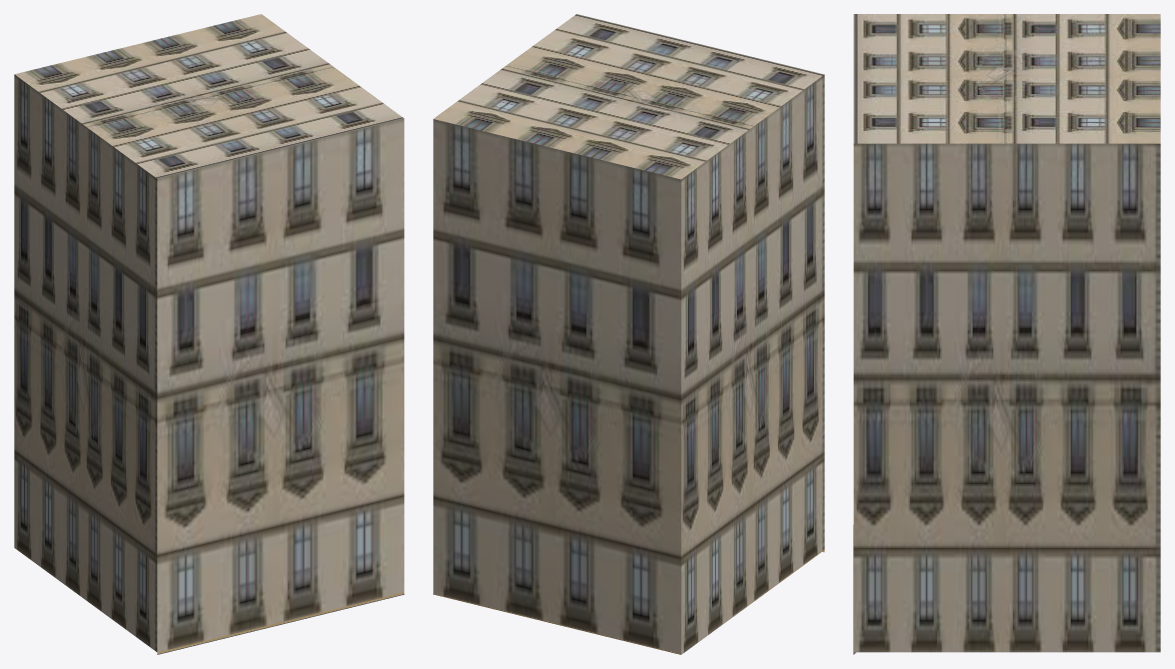
The model's file is Building_1.FBX.
The picture shows the model from 3 angles, left to right: view 1: azimuth 30°, elevation 25°; view 2: azimuth 150°, elevation 25°; view 3: azimuth 270°, elevation 25°; orthographic projection. The views are drawn at different scales.
Visible parts, largest first — view 1: Box001; view 2: Box001; view 3: Box001.
Boxes of the visible parts, x1=… form: Box001: x1=14, y1=14, x2=404, y2=654; Box001: x1=433, y1=14, x2=824, y2=654; Box001: x1=853, y1=14, x2=1160, y2=654.
Bounding box in the file's own units: 68.59 × 126 × 68.82.
Materials: 2 (2 with a texture image).
